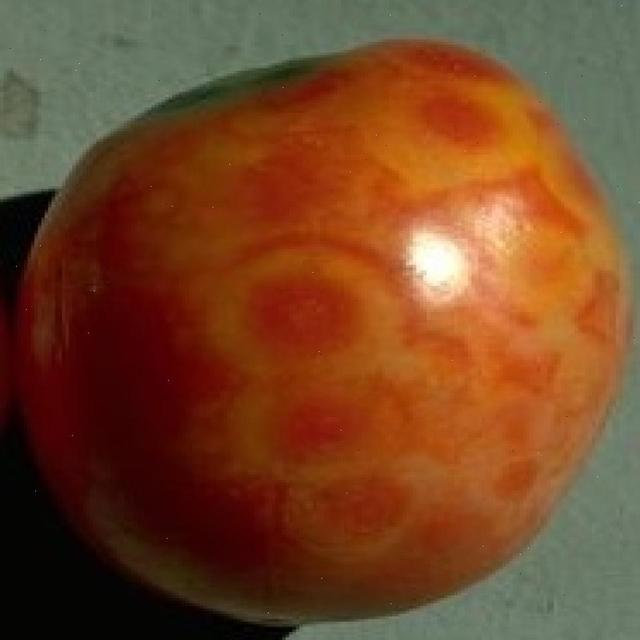Spotted wilt Virus Fruit: (10, 23, 420, 416)
